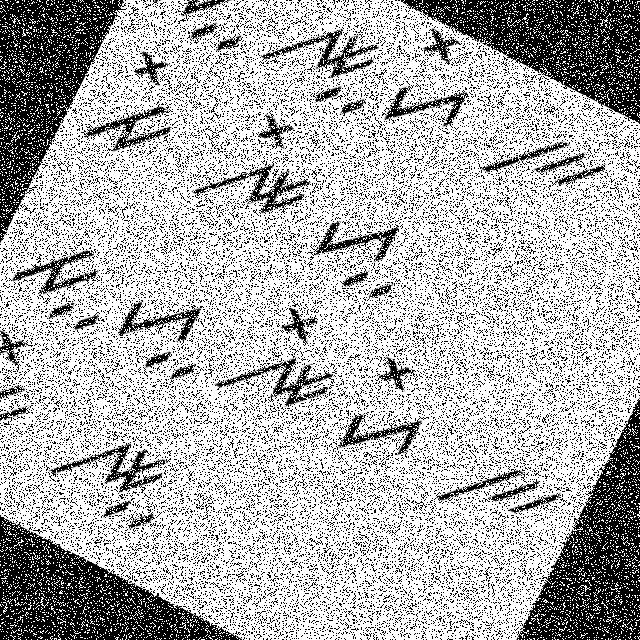hah: (296, 172, 438, 318), (103, 266, 239, 396)
ho: (327, 344, 450, 480), (376, 19, 498, 154)
mbah: (0, 213, 137, 349), (136, 0, 279, 73)
mbo: (67, 36, 206, 186), (0, 321, 65, 462)
ndah: (30, 393, 204, 556), (247, 0, 402, 129)
ndo: (176, 89, 338, 254), (209, 286, 360, 442)
